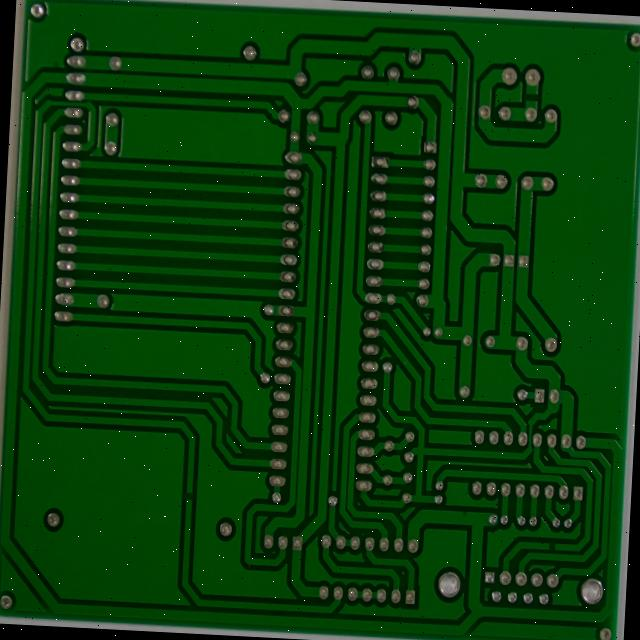open_circuit: (565, 100, 585, 118), (196, 546, 209, 566), (587, 604, 603, 620)
